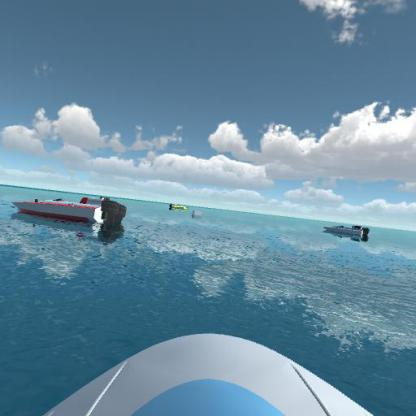usv1: (320, 218, 378, 247)
usv2: (166, 197, 190, 214)
usv3: (13, 189, 132, 239)
